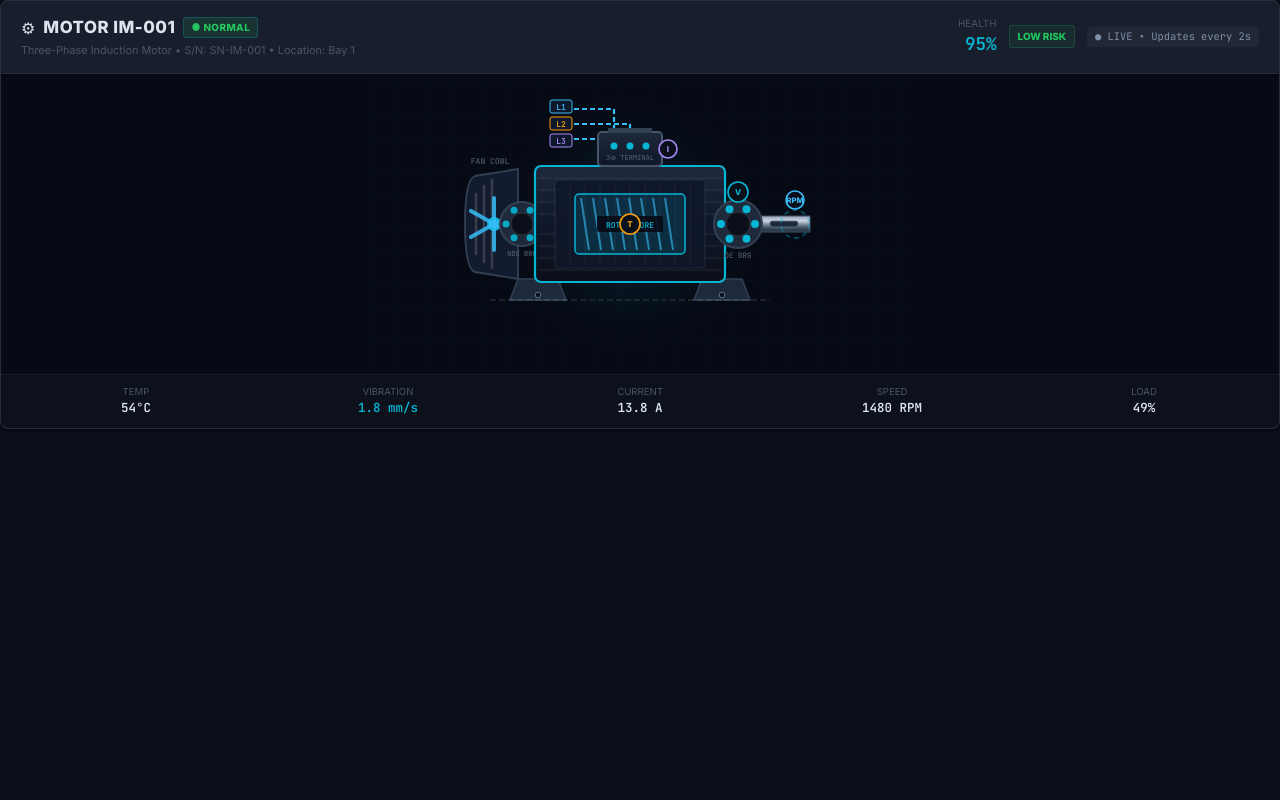
Scenario: Phase 10.3 — Three-Phase Induction Motor Digital Twin Tests › renders interactive sensor modal on clicking a physical sensor point or telemetry strip
This screenshot has width=1280, height=800.
Click Temperature inspector in telemetry strip
Click the element titled "Click to inspect Temperature" at x=136, y=401, box [121,386,151,416]
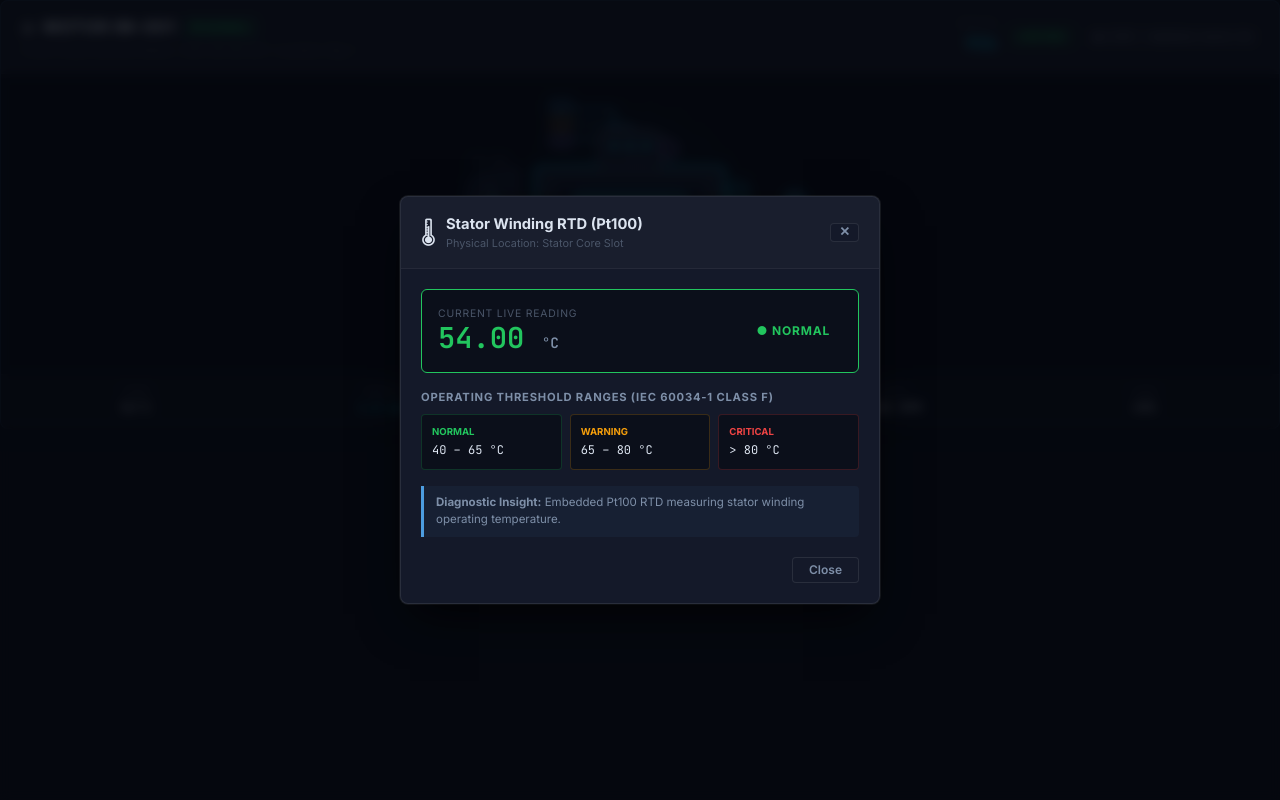
Now the text "Current Live Reading" is shown, box [438,306,577,321]
Now the text "Operating Threshold Ranges (IEC 60034-1 Class F)" is shown, box [421,390,774,404]
Now the text "Embedded Pt100 RTD" is shown, box [436,495,804,526]
